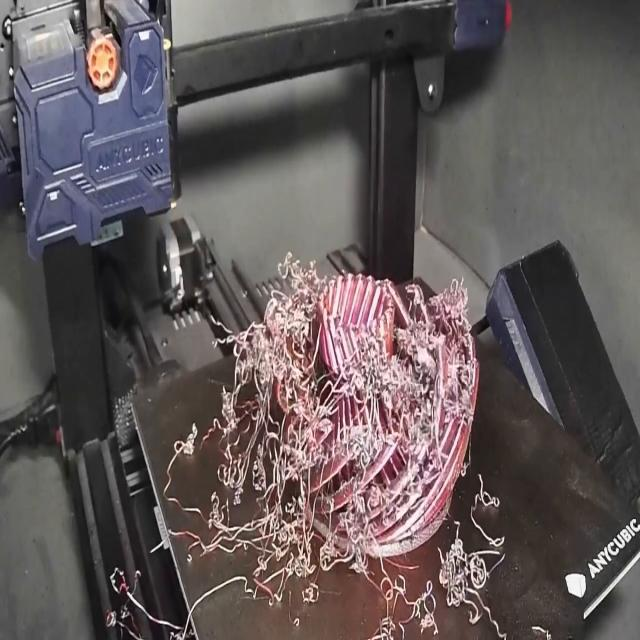spaghetti: (96, 251, 528, 640)
